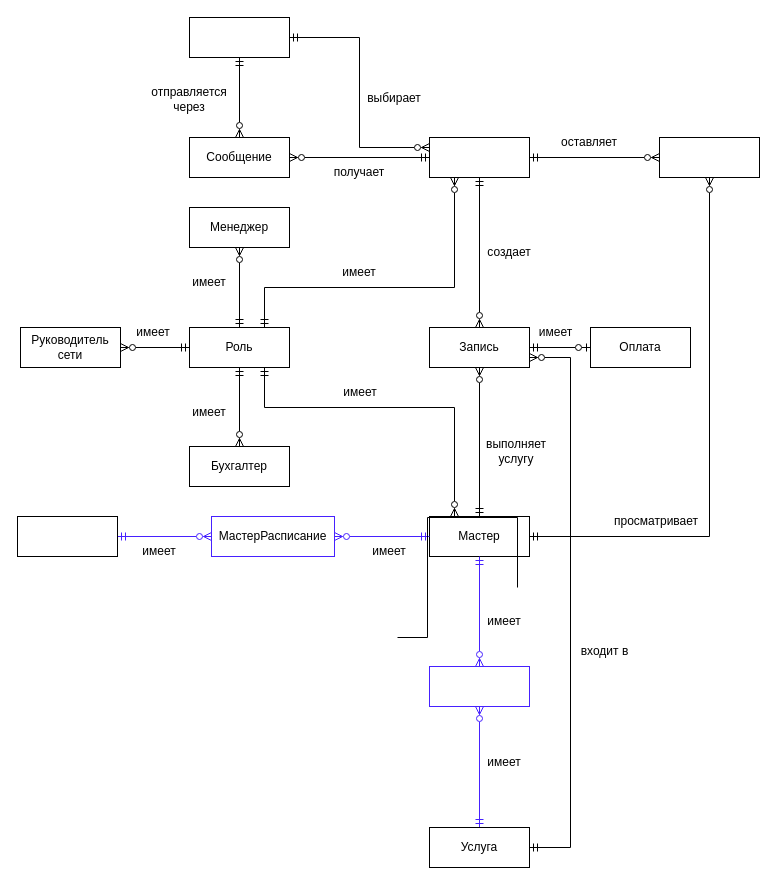
The diagram is 777 pixels wide and 885 high, and some of its shapes have lost their labels. The box of each missing label's shape, as (x1, y1, x2, y2) in pixels:
Канал сообщений: (188, 16, 290, 58)
Клиент: (428, 136, 530, 178)
МастерУслуга: (428, 666, 530, 706)
Отзыв: (658, 136, 760, 178)
Расписание: (16, 516, 118, 556)
